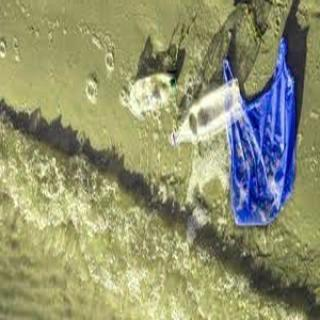Plastic: (165, 77, 245, 147), (124, 69, 171, 116)
Trash: (220, 36, 303, 229)
